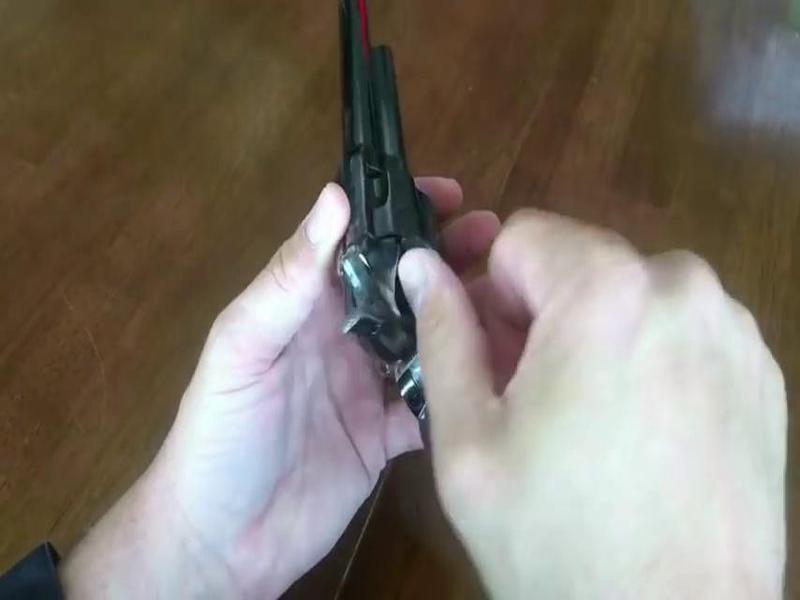Revolver: (301, 14, 507, 483)
